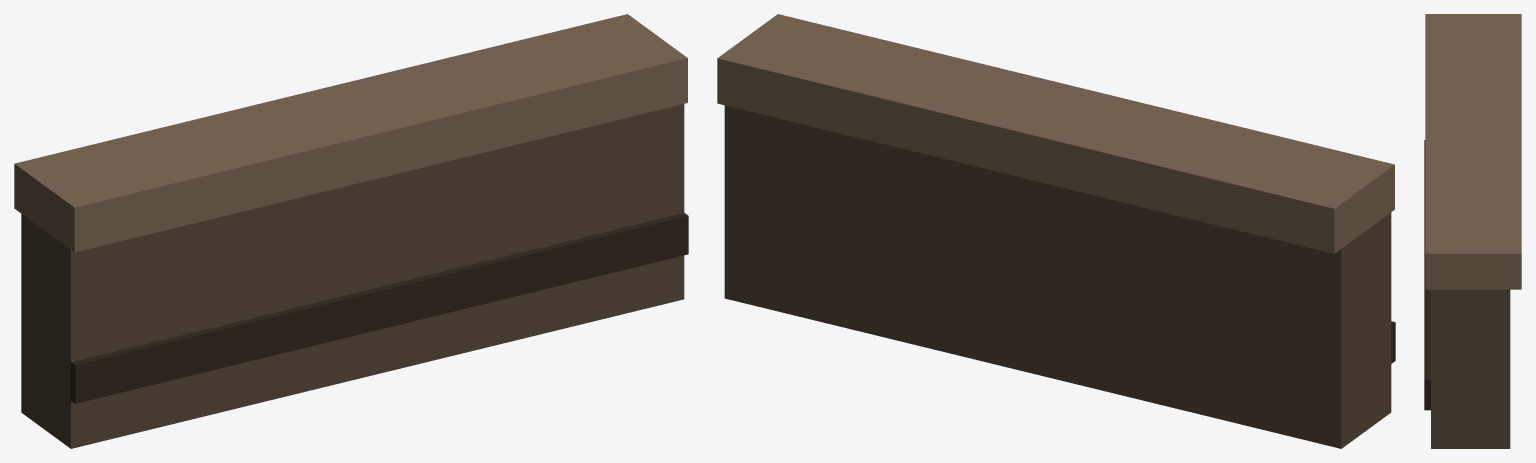
The model's file is CMU3DPlatformKutjevoSM.glb.
The picture shows the model from 3 angles, left to right: view 1: azimuth 30°, elevation 25°; view 2: azimuth 150°, elevation 25°; view 3: azimuth 270°, elevation 25°; orthographic projection. The views are drawn at different scales.
Parts seen in each view (by area): view 1: south edge fascia, south edge cap, front lower seam; view 2: south edge fascia, south edge cap; view 3: south edge cap, south edge fascia, front lower seam.
Boxes of the visible parts, <box> form: south edge fascia: <box>21,104,684,448</box>; south edge cap: <box>14,14,687,252</box>; front lower seam: <box>71,212,688,403</box>; south edge fascia: <box>724,105,1391,448</box>; south edge cap: <box>717,14,1394,253</box>; south edge cap: <box>1425,14,1521,289</box>; south edge fascia: <box>1431,289,1510,448</box>; front lower seam: <box>1424,140,1430,410</box>.
Size of the model in its own units: 1 by 0.38 by 0.172.
